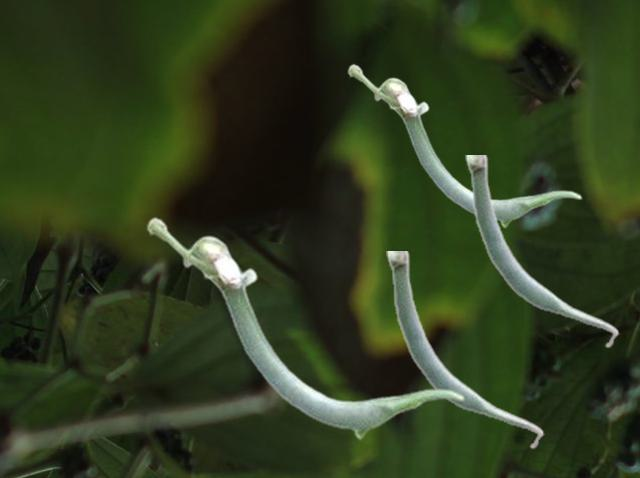french_bean: (146, 216, 464, 439), (347, 63, 581, 227), (386, 251, 543, 449), (465, 155, 618, 348)
